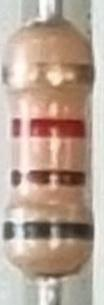Brown: (7, 169, 87, 187)
Red: (12, 119, 88, 140)
Side-Silver: (4, 65, 94, 85)
